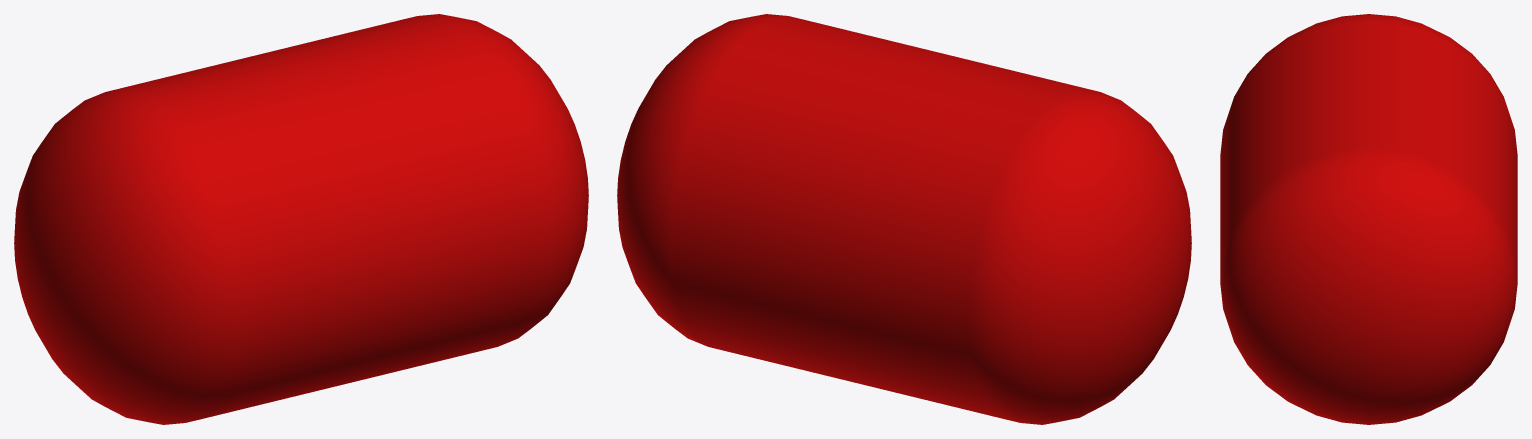
Rendered from simplePill.obj.
3 views of the same model, side by side, from view 1: azimuth 30°, elevation 25°; view 2: azimuth 150°, elevation 25°; view 3: azimuth 270°, elevation 25° (orthographic). The views are drawn at different scales.
Visible parts, largest first — view 1: Cylinder_Cylinder.001; view 2: Cylinder_Cylinder.001; view 3: Cylinder_Cylinder.001.
Part boxes in pixels (x1=…): Cylinder_Cylinder.001: x1=14, y1=14, x2=588, y2=424; Cylinder_Cylinder.001: x1=617, y1=14, x2=1191, y2=424; Cylinder_Cylinder.001: x1=1220, y1=14, x2=1517, y2=424.
Size of the model in its own units: 0.1744 by 0.1 by 0.1.
